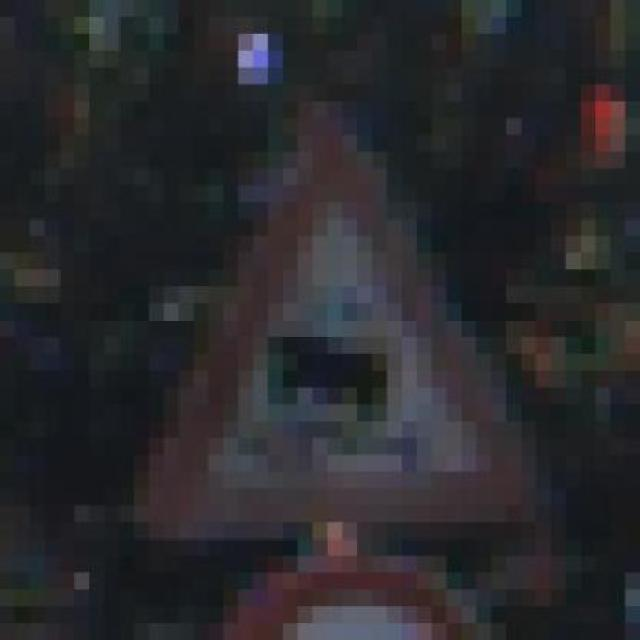Slippery Road Ahead: (148, 62, 549, 552)
